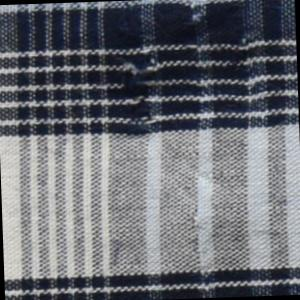Damage: (87, 1, 263, 128)
